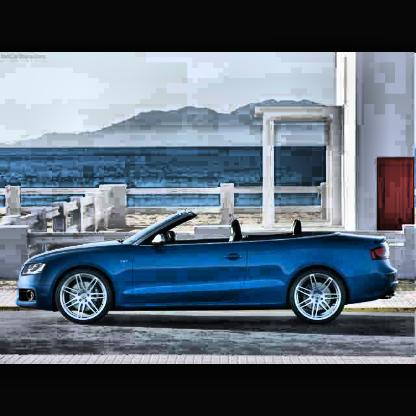Audi S5 Convertible 2012: (15, 211, 402, 327)
